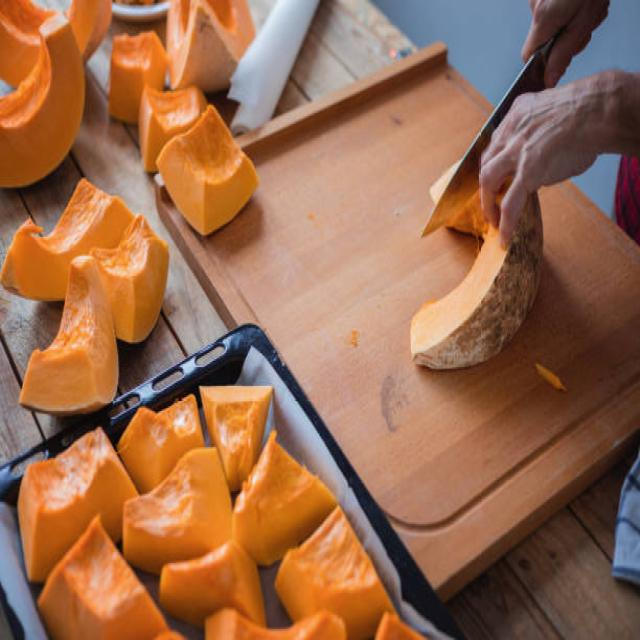pumpkin: (410, 193, 542, 368), (18, 428, 138, 582), (0, 178, 134, 300), (275, 506, 395, 639), (19, 255, 119, 414), (39, 516, 168, 639), (0, 13, 85, 187), (232, 429, 338, 565), (124, 448, 231, 573), (156, 105, 259, 234), (90, 214, 169, 343), (159, 540, 266, 626), (118, 396, 204, 493), (200, 386, 272, 492)
